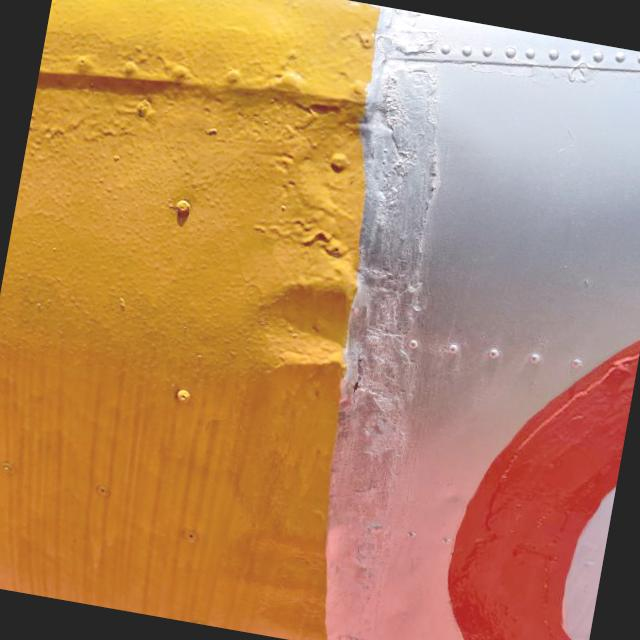dent: (217, 228, 392, 412)
